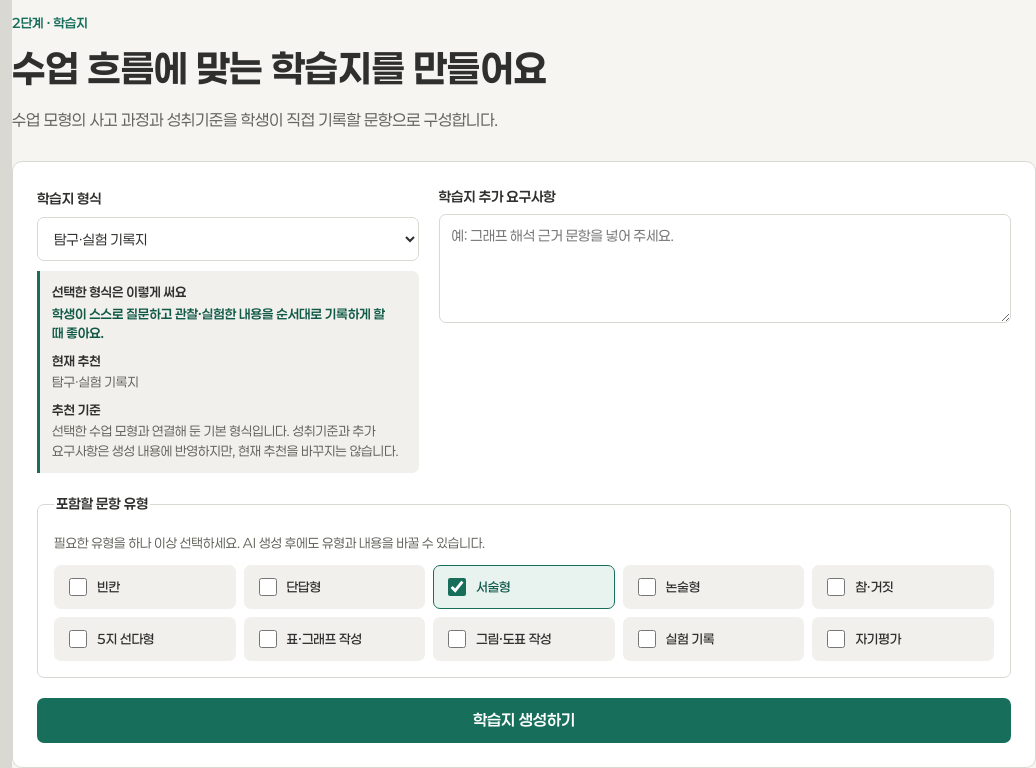
it: explains the selected worksheet format and makes the recommendation rule visible
Expected: the text "선택한 형식은 이렇게 써요" is shown, [52,284,186,300]
Expected: the text "학생이 스스로 질문하고 관찰·실험한 내용을 순서대로 기록하게 할 때 좋아요." is shown, [52,305,407,344]
Step 1. Select "토의·토론 근거 기록지" in the dropdown labelled "학습지 형식" → (228, 239), box [37,217,419,261]
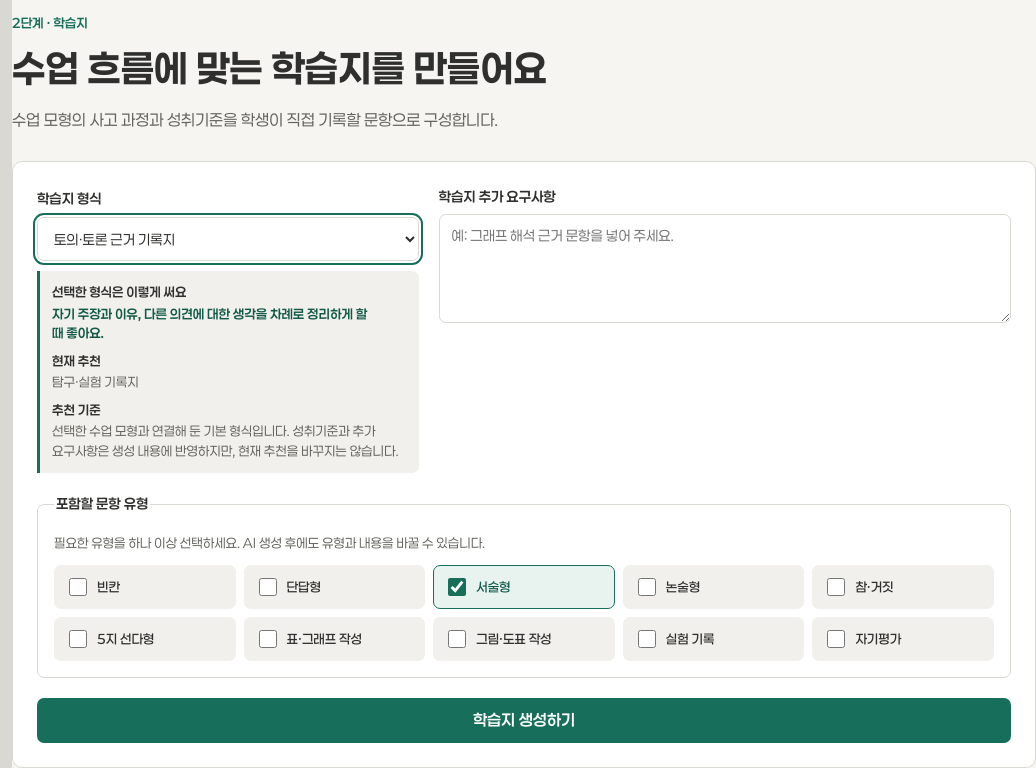
Expected: the element named "선택한 학습지 형식 안내" shows "탐구·실험 기록지", [52,374,139,390]
Now the text "자기 주장과 이유, 다른 의견에 대한 생각을 차례로 정리하게 할 때 좋아요." is shown, box [52,305,407,344]
